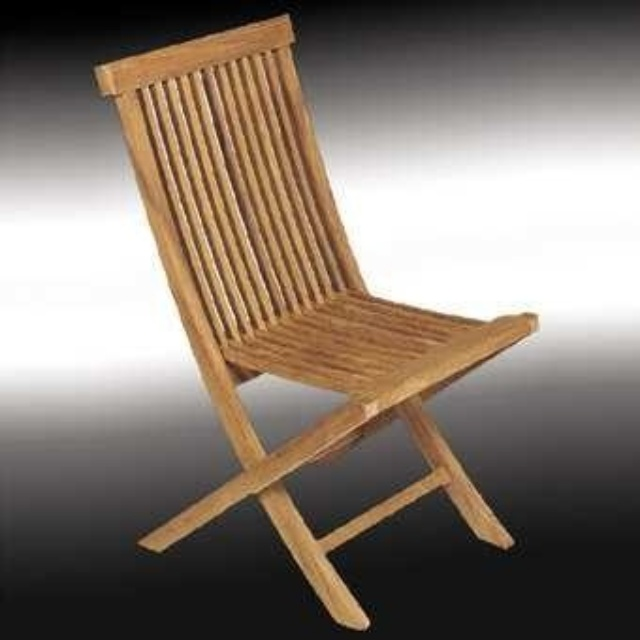obstacle: (94, 15, 536, 629)
